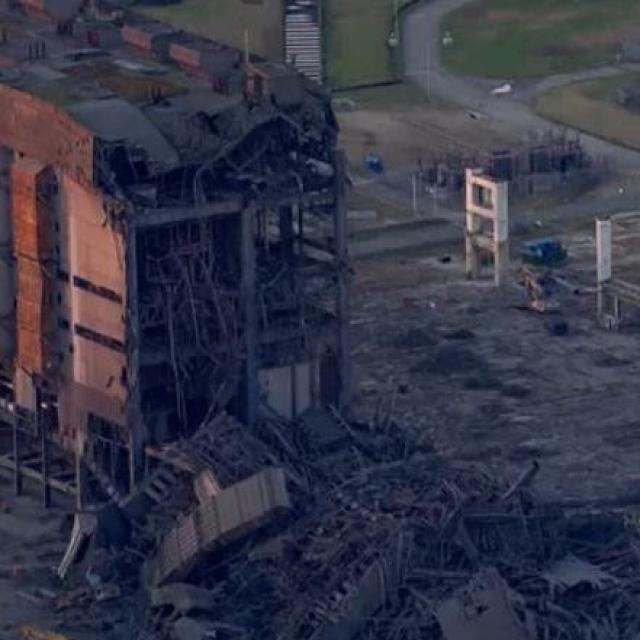collapsed_building: (60, 74, 336, 626)
